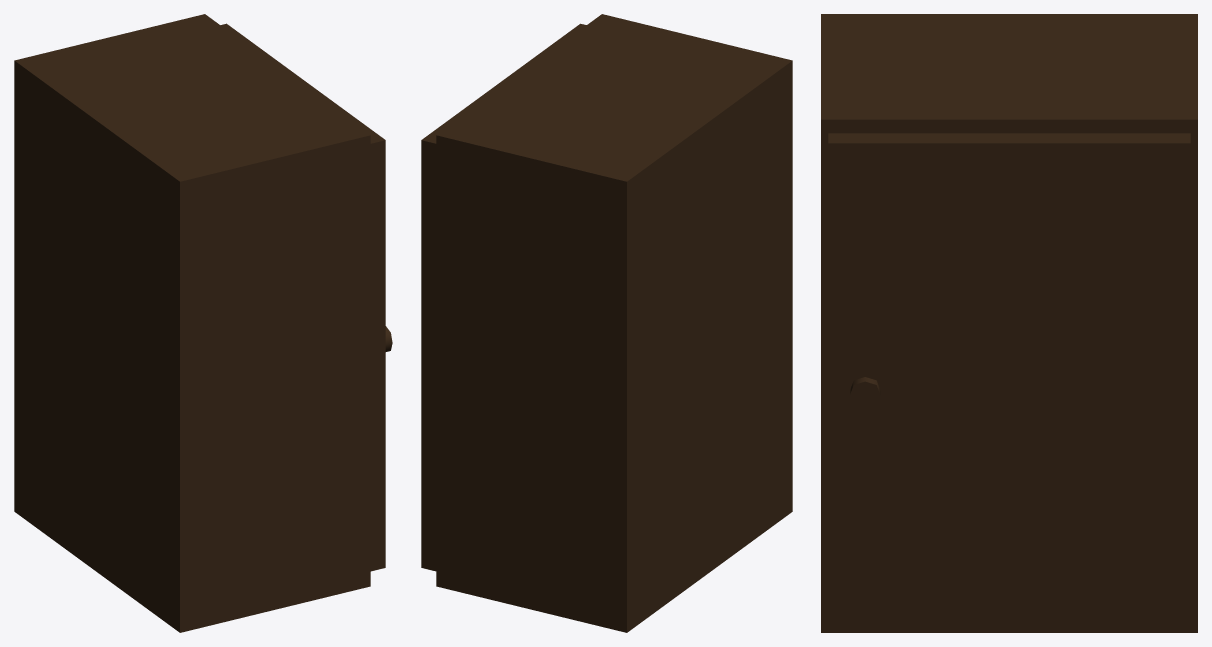
Rendered from KitchenCabinet_Top.FBX.
The picture shows the model from 3 angles, left to right: view 1: azimuth 30°, elevation 25°; view 2: azimuth 150°, elevation 25°; view 3: azimuth 270°, elevation 25°; orthographic projection. The views are drawn at different scales.
Visible parts, largest first — view 1: Box016; view 2: Box016; view 3: Box016.
Part boxes in pixels (x1,y1,x2,y2): Box016: (14, 14, 392, 632); Box016: (421, 14, 792, 632); Box016: (821, 14, 1197, 632).
Bounding box in the file's own units: 17.36 × 33.24 × 22.13.
